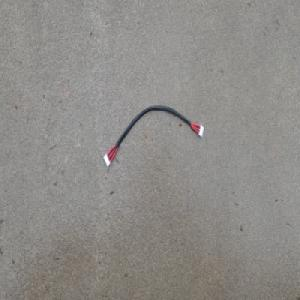Wire: (102, 103, 204, 168)
